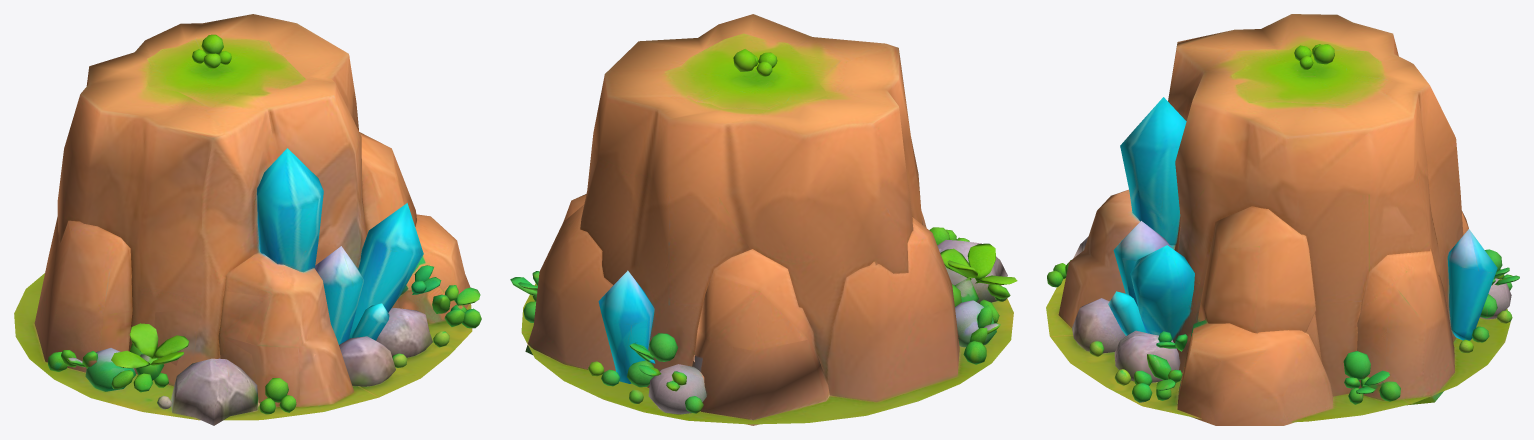
Rendered from r5c4_crystal_seam_in_rock.glb.
3 renders of one model, left to right at view 1: azimuth 30°, elevation 25°; view 2: azimuth 150°, elevation 25°; view 3: azimuth 270°, elevation 25°, orthographic. The views are drawn at different scales.
Size of the model in its own units: 1 by 0.6777 by 1.
1 material, 1 textured.
